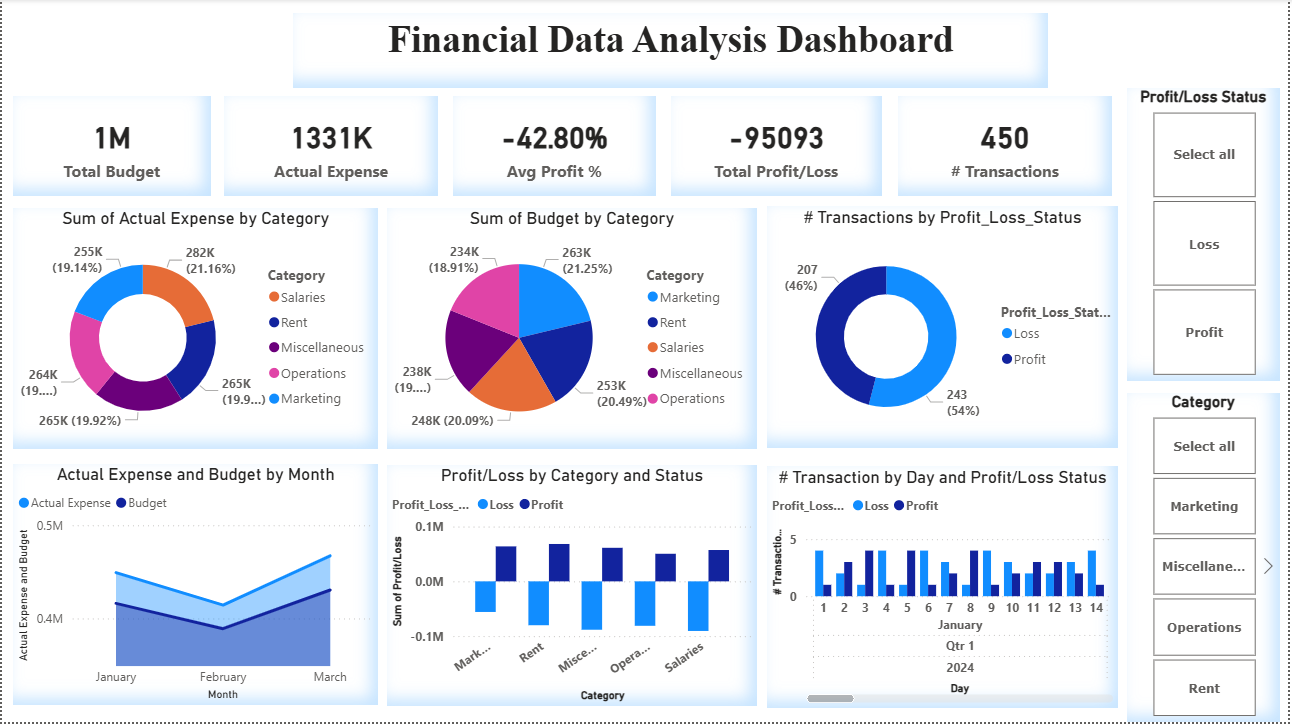

Layout of this report page (visuals, bound fields, positions):
{"tool":"powerbi","page":{"name":"Page 1","canvas":[1280,720],"ordinal":0},"visuals":[{"type":"textbox","box":[289.8,13.7,751.4,74.6],"z":0},{"type":"card","fields":{"Values":["Sum(findata.Budget)"]},"box":[11.2,97,196.5,99.5],"z":1000},{"type":"card","fields":{"Values":["Sum(findata.Actual Expense)"]},"box":[221.4,97,212.7,99.5],"z":2000},{"type":"card","fields":{"Values":["Avg(findata.Profit %)"]},"box":[449.1,97,201.5,99.5],"z":3000},{"type":"card","fields":{"Values":["Sum(findata.Profit/Loss)"]},"box":[665.5,97,210.2,99.5],"z":4000},{"type":"slicer","title":"Profit/Loss Status","fields":{"Values":["findata.Profit_Loss_Status"]},"box":[1119.6,88.3,151.8,292.3],"z":5000},{"type":"card","fields":{"Values":["findata.# Transation"]},"box":[891.9,97,212.7,99.5],"z":6000},{"type":"slicer","title":"Category","fields":{"Values":["findata.Category"]},"box":[1119.6,391.8,151.8,328.4],"z":7000},{"type":"donutChart","fields":{"Category":["findata.Category"],"Y":["Sum(findata.Actual Expense)"]},"box":[11.2,207.7,363.2,240.1],"z":8000},{"type":"pieChart","fields":{"Category":["findata.Category"],"Y":["Sum(findata.Budget)"]},"box":[383.1,207.7,368.2,240.1],"z":9000},{"type":"donutChart","fields":{"Category":["findata.Profit_Loss_Status"],"Y":["findata.# Transactions"]},"box":[761.3,206.5,349.6,240.1],"z":10000},{"type":"areaChart","title":"Actual Expense and Budget by Month","fields":{"Category":["findata.Date.Variation.Date Hierarchy.Month","findata.Date.Variation.Date Hierarchy.Day"],"Y":["Sum(findata.Actual Expense)","Sum(findata.Budget)"]},"box":[11.2,462.8,363.2,240.1],"z":11000},{"type":"clusteredColumnChart","title":"Profit/Loss by Category and Status","fields":{"Category":["findata.Category"],"Y":["Sum(findata.Profit/Loss)"],"Series":["findata.Profit_Loss_Status"]},"box":[383.1,464,368.2,240.1],"z":12000},{"type":"clusteredColumnChart","title":"# Transaction by Day and Profit/Loss Status","fields":{"Series":["findata.Profit_Loss_Status"],"Y":["findata.# Transactions"],"Category":["findata.Date.Variation.Date Hierarchy.Year","findata.Date.Variation.Date Hierarchy.Quarter","findata.Date.Variation.Date Hierarchy.Month","findata.Date.Variation.Date Hierarchy.Day"]},"box":[761.3,465.2,349.6,240.1],"z":13000}]}

Visuals, with their boxes in screenshot pixels (x1, y1, x2, y2), scaled from the page's 1280x720 canvas onto the 1292x727 screenshot:
textbox: (293,14,1051,89)
card - Sum(findata.Budget): (11,98,210,198)
card - Sum(findata.Actual Expense): (223,98,438,198)
card - Avg(findata.Profit %): (453,98,657,198)
card - Sum(findata.Profit/Loss): (672,98,884,198)
"Profit/Loss Status" slicer: (1130,89,1283,384)
card - findata.# Transation: (900,98,1115,198)
"Category" slicer: (1130,396,1283,726)
donutChart - findata.Category x Sum(findata.Actual Expense): (11,210,378,452)
pieChart - findata.Category x Sum(findata.Budget): (387,210,758,452)
donutChart - findata.Profit_Loss_Status x findata.# Transactions: (768,209,1121,451)
"Actual Expense and Budget by Month" areaChart: (11,467,378,710)
"Profit/Loss by Category and Status" clusteredColumnChart: (387,469,758,711)
"# Transaction by Day and Profit/Loss Status" clusteredColumnChart: (768,470,1121,712)
